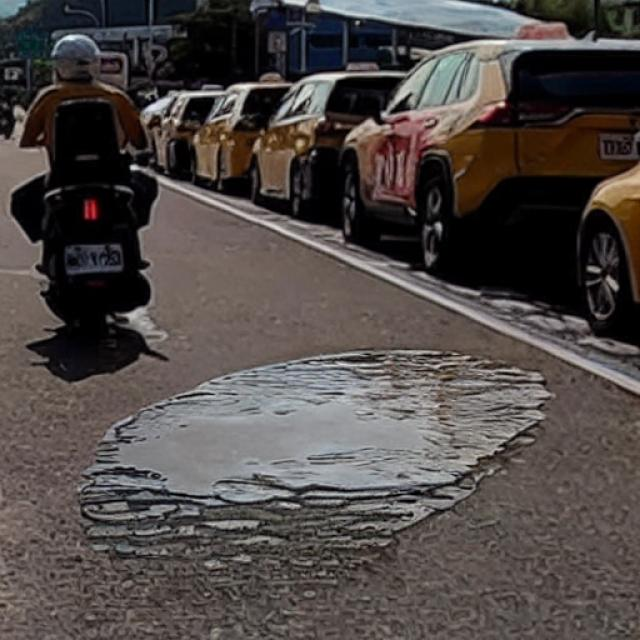puddle: (84, 348, 547, 563)
